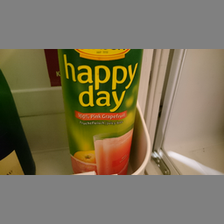juice: (57, 49, 145, 175)
